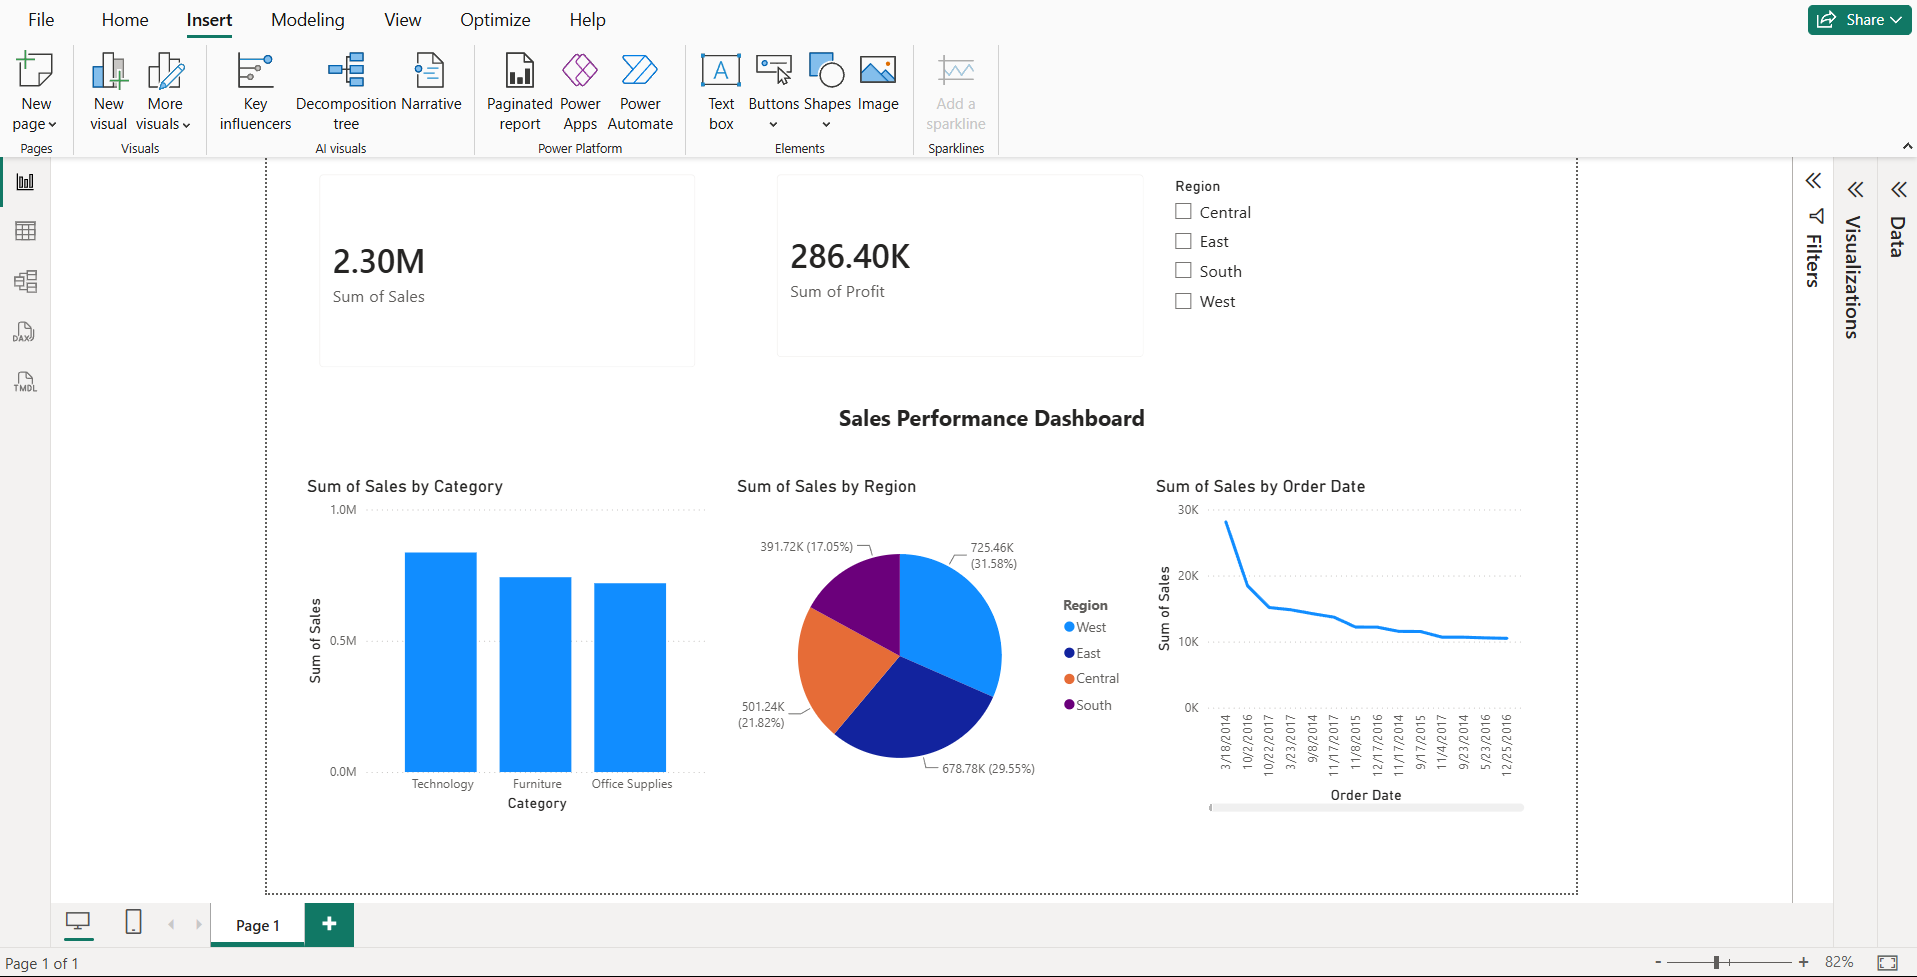

This screenshot's page, from the dashboard's own definition file:
{"tool":"powerbi","page":{"name":"Page 1","canvas":[1280,720],"ordinal":0},"visuals":[{"type":"clusteredColumnChart","fields":{"Y":["Sum(Sample - Superstore.Sales)"],"Category":["Sample - Superstore.Category"]},"box":[34.2,311.8,402.3,333.8],"z":0},{"type":"pieChart","fields":{"Category":["Sample - Superstore.Region","Sample - Superstore.Category"],"Y":["Sum(Sample - Superstore.Sales)"]},"box":[454.9,311.8,393.8,333.8],"z":1},{"type":"lineChart","fields":{"Category":["Sample - Superstore.Order Date"],"Y":["Sum(Sample - Superstore.Sales)"]},"box":[864.5,311.8,370.5,333.8],"z":2},{"type":"cardVisual","fields":{"Data":["Sum(Sample - Superstore.Sales)"]},"box":[34.2,0,402.3,223.8],"z":3},{"type":"cardVisual","fields":{"Data":["Sum(Sample - Superstore.Profit)"]},"box":[481.8,0,393.8,214],"z":4},{"type":"slicer","fields":{"Values":["Sample - Superstore.Region"]},"box":[875.5,14.7,371.7,297.1],"z":5},{"type":"textbox","box":[436.6,234.8,545.4,62.4],"z":6}]}

Visuals, with their boxes on the page's 1280x720 design canvas (x1, y1, x2, y2). These are canvas units, not pixel positions in the 1917x977 screenshot, which may show the page scaled, cropped or inside an application window:
clusteredColumnChart - Sum(Sample - Superstore.Sales) x Sample - Superstore.Category: x1=34 y1=312 x2=436 y2=646
pieChart - Sample - Superstore.Region x Sample - Superstore.Category: x1=455 y1=312 x2=849 y2=646
lineChart - Sample - Superstore.Order Date x Sum(Sample - Superstore.Sales): x1=864 y1=312 x2=1235 y2=646
cardVisual - Sum(Sample - Superstore.Sales): x1=34 y1=0 x2=436 y2=224
cardVisual - Sum(Sample - Superstore.Profit): x1=482 y1=0 x2=876 y2=214
slicer - Sample - Superstore.Region: x1=876 y1=15 x2=1247 y2=312
textbox: x1=437 y1=235 x2=982 y2=297
